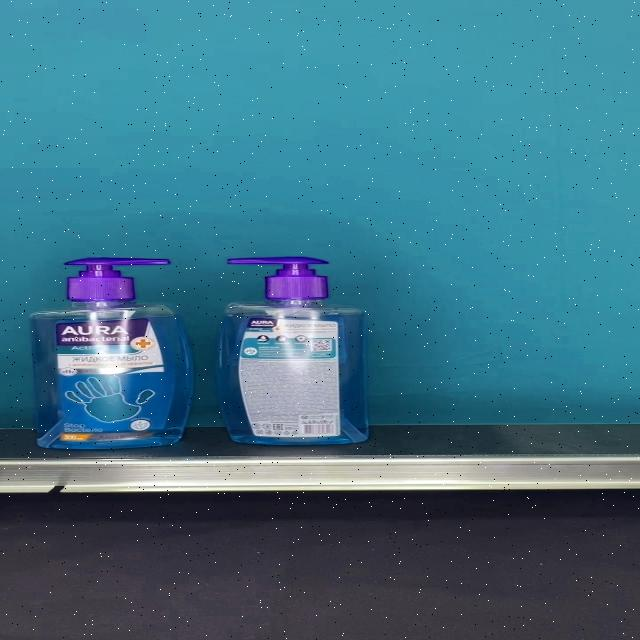Bottle: (28, 258, 194, 449), (216, 257, 370, 445)
Cap: (65, 258, 171, 300), (225, 257, 328, 300)
